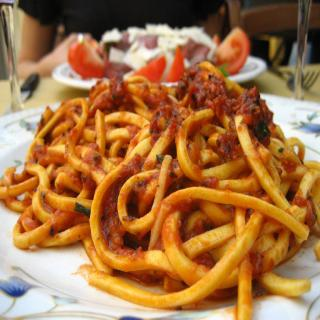Pasta: (3, 43, 320, 314)
Tomato: (59, 41, 106, 75)
